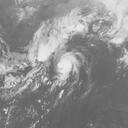cyclone: (53, 50, 85, 91)
